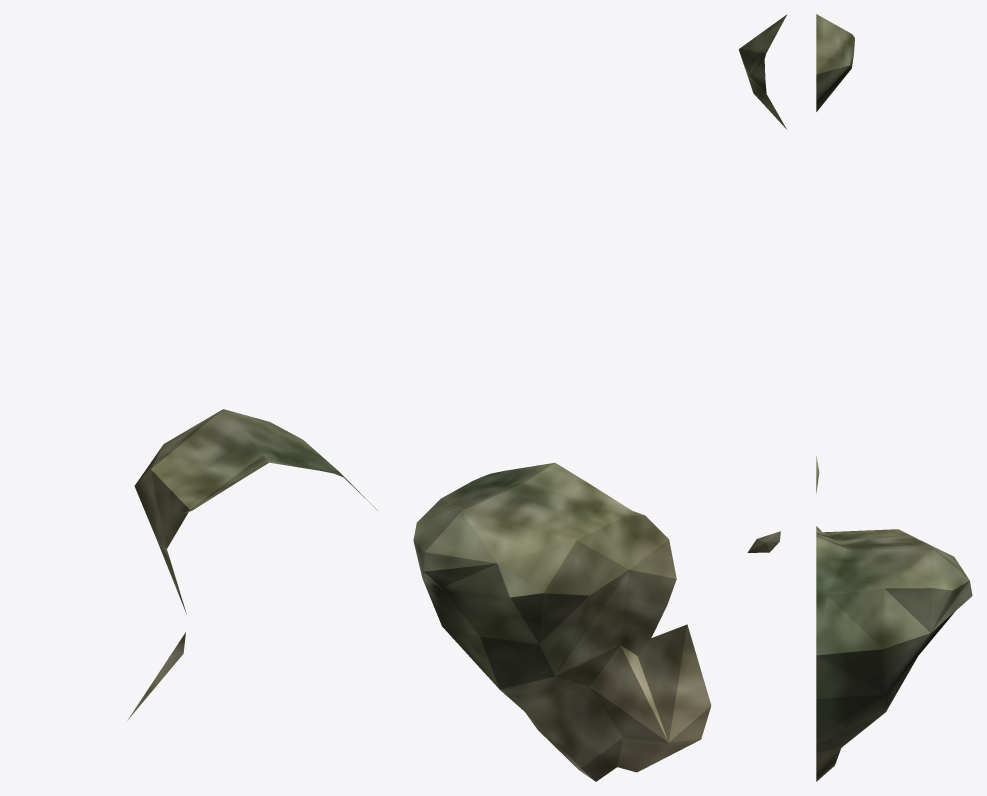
3 views of the same model, side by side, from view 1: azimuth 30°, elevation 25°; view 2: azimuth 150°, elevation 25°; view 3: azimuth 270°, elevation 25° (orthographic). The views are drawn at different scales.
Bounding box in the file's own units: 2.13 × 4.78 × 0.9822.
Materials: 1 (1 with a texture image).
